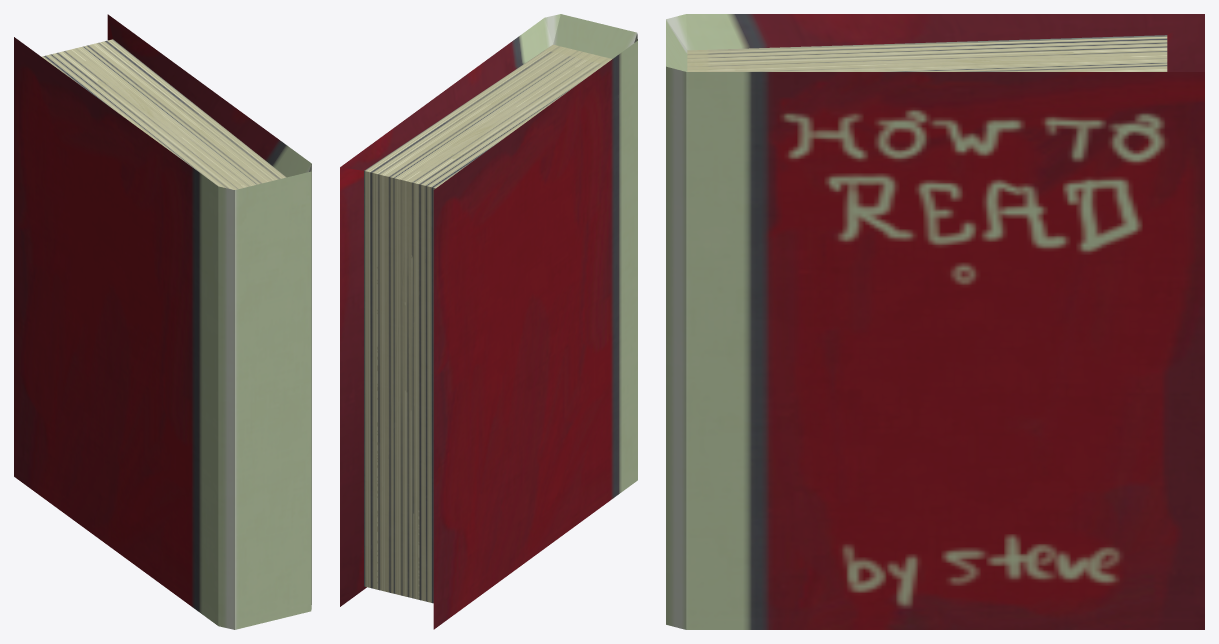
Rendered from e_asset_book_read.fbx.
3 renders of one model, left to right at view 1: azimuth 30°, elevation 25°; view 2: azimuth 150°, elevation 25°; view 3: azimuth 270°, elevation 25°, orthographic. The views are drawn at different scales.
Parts seen in each view (by area): view 1: pCube81; view 2: pCube81; view 3: pCube81.
Boxes of the visible parts, x1=… form: pCube81: x1=14, y1=14, x2=311, y2=629; pCube81: x1=340, y1=14, x2=637, y2=629; pCube81: x1=666, y1=14, x2=1204, y2=629.
Size of the model in its own units: 0.0368 by 0.1653 by 0.1446.
